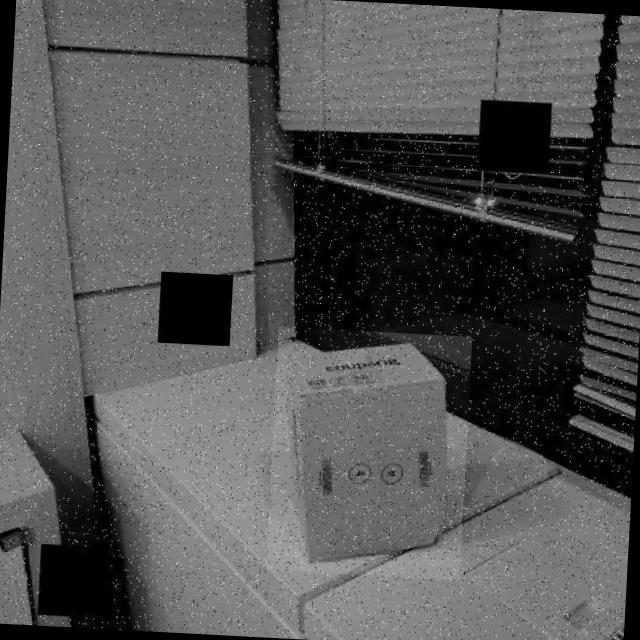box: (266, 327, 472, 580)
